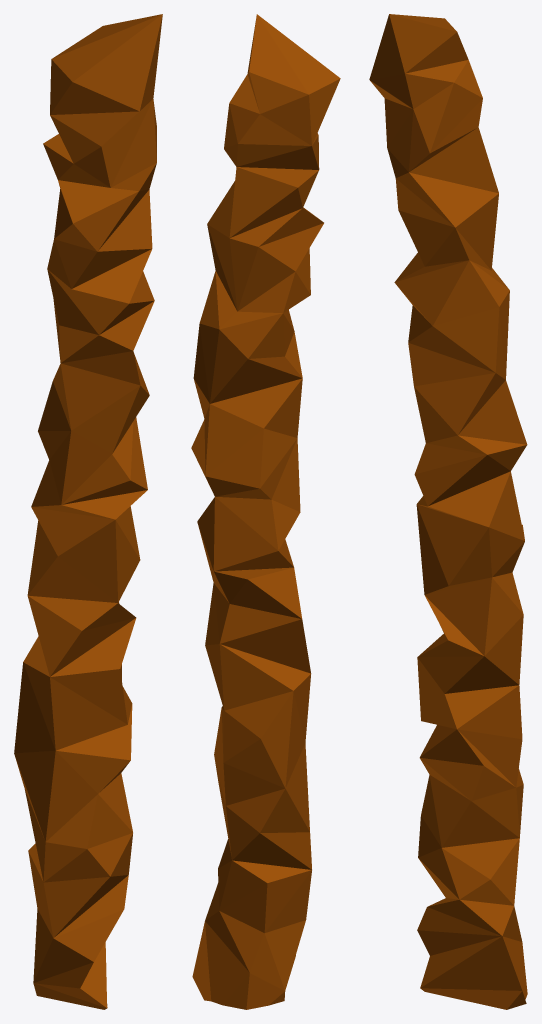
Rendered from Vegetation_Modular_New_Tree_Trunk_Palm_05.FBX.
3 views of the same model, side by side, from view 1: azimuth 30°, elevation 25°; view 2: azimuth 150°, elevation 25°; view 3: azimuth 270°, elevation 25° (orthographic). The views are drawn at different scales.
Parts seen in each view (by area): view 1: Vegetation_Modular_New_Tree_Trunk_Palm_05; view 2: Vegetation_Modular_New_Tree_Trunk_Palm_05; view 3: Vegetation_Modular_New_Tree_Trunk_Palm_05.
Boxes of the visible parts, x1,y1,x2,y2 form: Vegetation_Modular_New_Tree_Trunk_Palm_05: (14,14,162,1009); Vegetation_Modular_New_Tree_Trunk_Palm_05: (191,14,340,1009); Vegetation_Modular_New_Tree_Trunk_Palm_05: (369,14,527,1009).
Bounding box in the file's own units: 557 × 4694 × 676.
